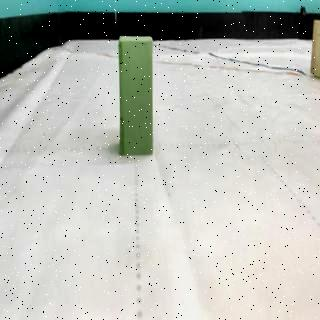greenbox: (118, 34, 154, 155)
